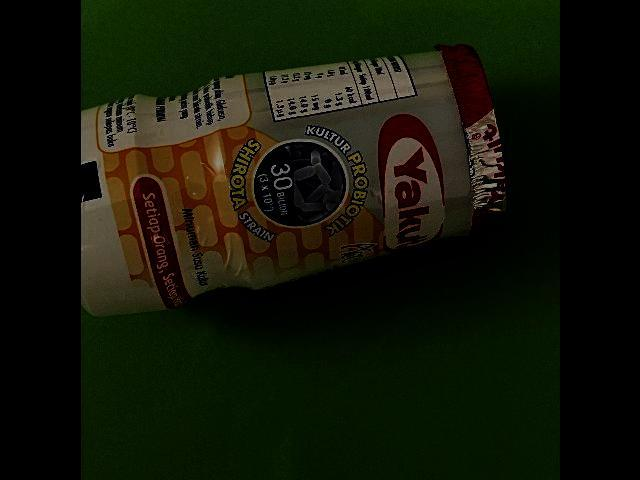plasticbottle: (80, 43, 512, 321)
